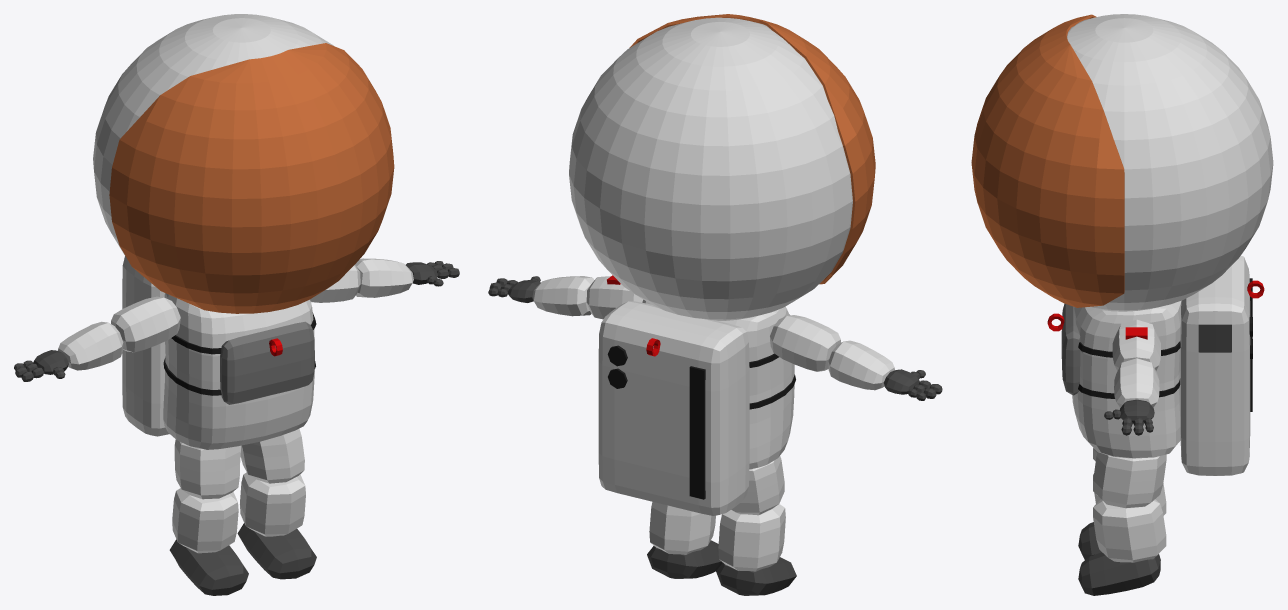
The model's file is Chibinaut.glb.
3 views of the same model, side by side, from view 1: azimuth 30°, elevation 25°; view 2: azimuth 150°, elevation 25°; view 3: azimuth 270°, elevation 25° (orthographic).
Visible parts, largest first — view 1: Sphere.001, Cube, Cube.003, Cube.002, Cube.001; view 2: Sphere.001, Cube, Cube.002, Cylinder; view 3: Sphere.001, Cube, Cube.002, Cube.003, Cube.001, Cylinder.001.
Boxes of the visible parts, left/top/right/bottom form: Sphere.001: left=93, top=14, right=394, bottom=313; Cube: left=14, top=258, right=459, bottom=595; Cube.003: left=220, top=321, right=314, bottom=404; Cube.002: left=122, top=256, right=169, bottom=436; Cube.001: left=163, top=312, right=316, bottom=395; Sphere.001: left=569, top=14, right=875, bottom=320; Cube: left=488, top=276, right=942, bottom=595; Cube.002: left=598, top=301, right=749, bottom=515; Cylinder: left=607, top=345, right=705, bottom=499; Sphere.001: left=971, top=14, right=1273, bottom=311; Cube: left=1072, top=300, right=1181, bottom=595; Cube.002: left=1180, top=255, right=1250, bottom=475; Cube.003: left=1061, top=303, right=1080, bottom=395; Cube.001: left=1078, top=341, right=1180, bottom=398; Cylinder.001: left=1047, top=280, right=1264, bottom=331.
Size of the model in its own units: 1.18 by 1.41 by 0.7045.
